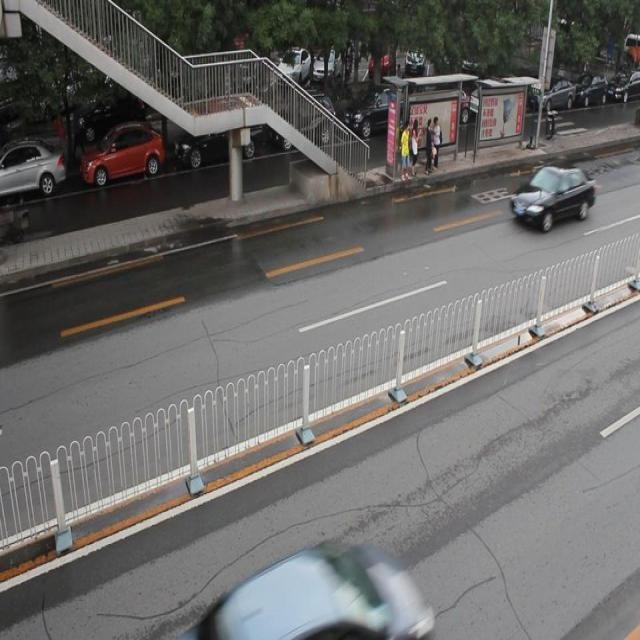car: (192, 543, 429, 640), (172, 97, 263, 164), (510, 163, 595, 230), (80, 123, 164, 182), (342, 79, 413, 141), (270, 89, 334, 150), (1, 137, 63, 197)
